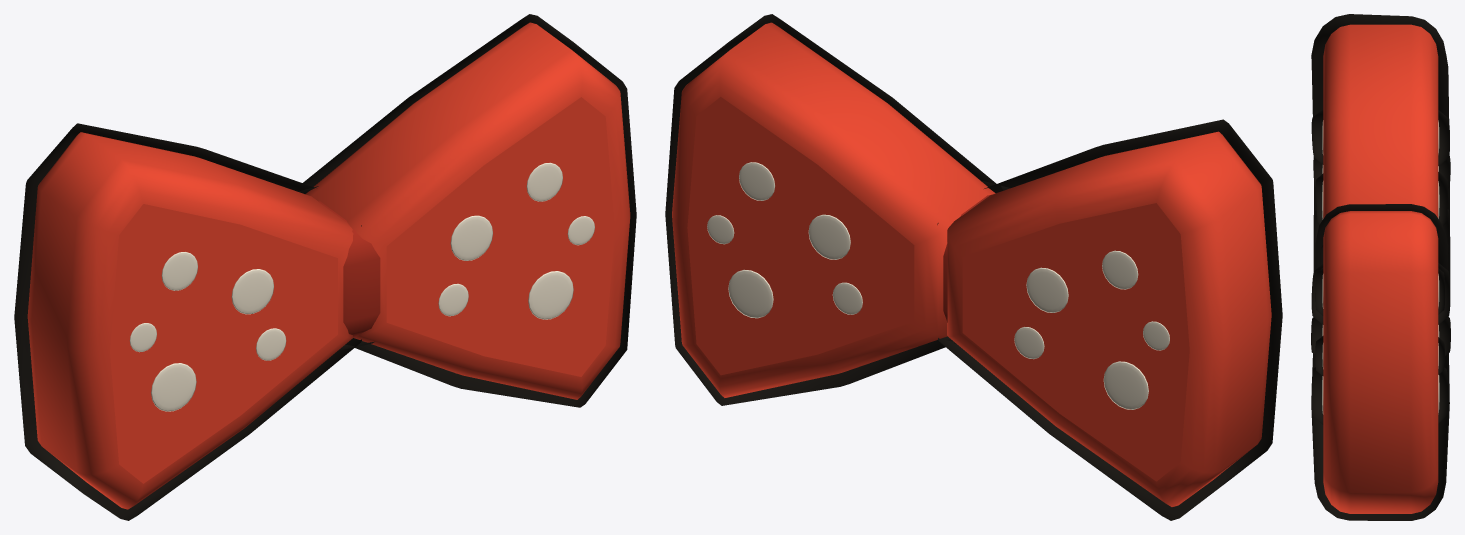
Rendered from bowtie.glb.
3 renders of one model, left to right at view 1: azimuth 30°, elevation 25°; view 2: azimuth 150°, elevation 25°; view 3: azimuth 270°, elevation 25°, orthographic. The views are drawn at different scales.
Parts seen in each view (by area): view 1: BowTie, BowTie_outline; view 2: BowTie, BowTie_outline; view 3: BowTie, BowTie_outline.
Boxes of the visible parts, x1=… form: BowTie: x1=27, y1=22, x2=630, y2=509; BowTie_outline: x1=14, y1=14, x2=636, y2=520; BowTie: x1=672, y1=22, x2=1271, y2=506; BowTie_outline: x1=665, y1=14, x2=1282, y2=520; BowTie: x1=1322, y1=24, x2=1439, y2=513; BowTie_outline: x1=1311, y1=14, x2=1450, y2=520.
Size of the model in its own units: 1.9 by 1.17 by 0.4621.
